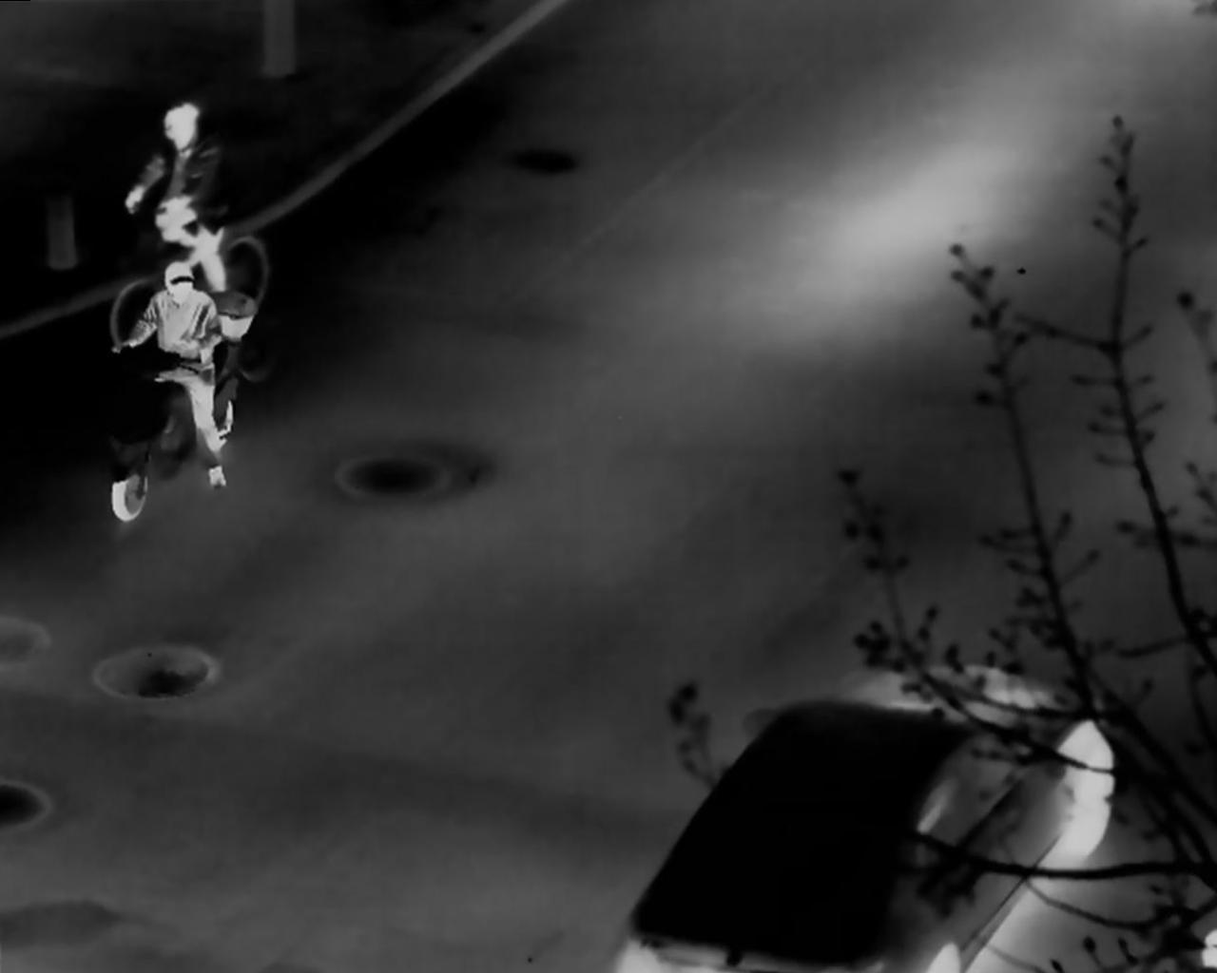person: (131, 264, 219, 471), (140, 95, 231, 294)
